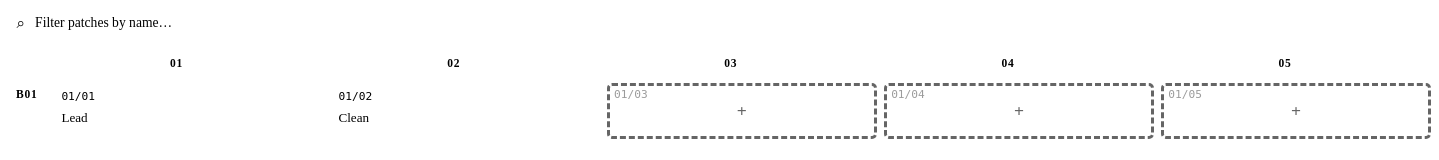
Test: PatchesGrid › filters by name, dims non-matches and hides placeholders
In the search field labelled "Filter patches by name": (235, 23) [33,14,437,32], type "lead"
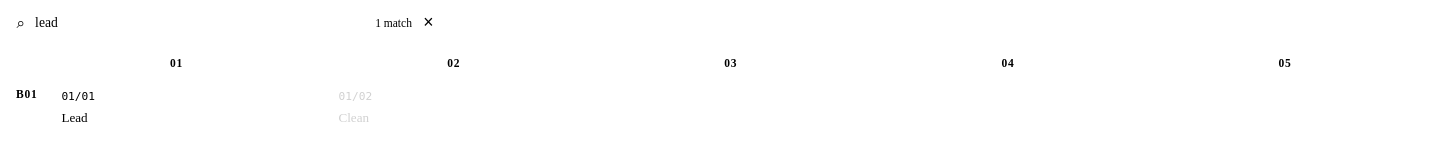
Expected: the text "1 match" is shown, [375,17,412,29]
Expected: no buttons with class "tile" are shown
Note: Clearing the filter restores the full grid.
Click the button named "Clear filter": click(428, 23) [420,14,437,31]
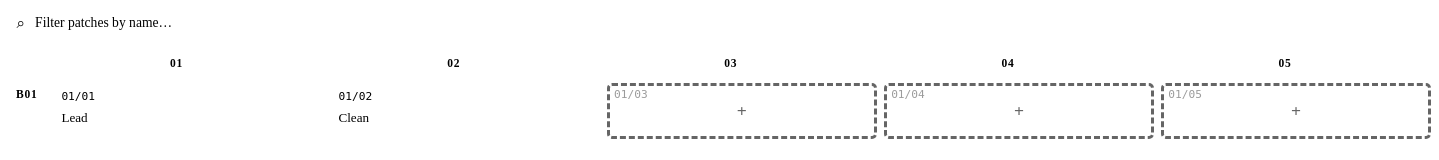
Expected: the button titled "Create patch at 1/3" is shown, [607,83,877,139]
